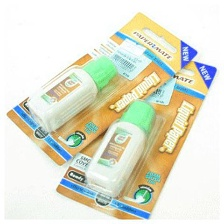book: (4, 9, 199, 168), (52, 44, 219, 224)
correction_fluid: (25, 52, 120, 134), (82, 97, 157, 199)
